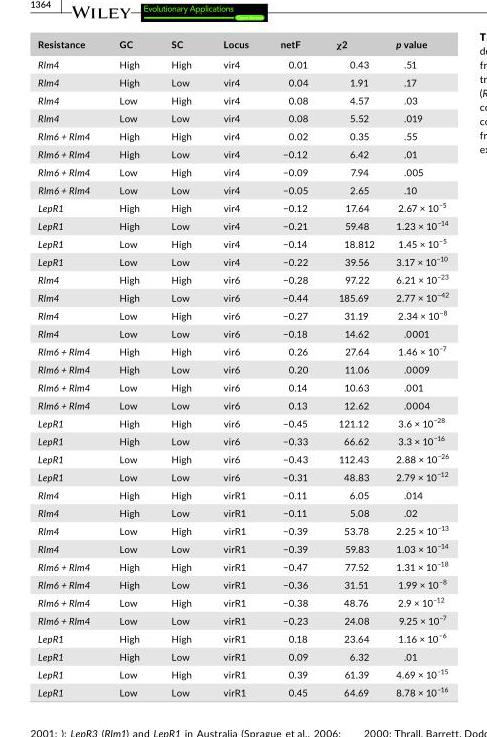table: (37, 37, 448, 697)
table column: (37, 37, 103, 697), (384, 37, 448, 697), (321, 37, 384, 697), (263, 37, 321, 697), (206, 37, 263, 697), (154, 37, 206, 697), (103, 37, 154, 697)
table column header: (37, 37, 448, 55)
table row: (37, 466, 448, 485), (37, 37, 448, 55), (37, 72, 448, 90), (37, 90, 448, 108), (37, 108, 448, 126), (37, 126, 448, 144), (37, 144, 448, 162), (37, 162, 448, 180), (37, 197, 448, 215), (37, 215, 448, 233), (37, 233, 448, 251), (37, 251, 448, 269), (37, 269, 448, 287), (37, 287, 448, 305), (37, 305, 448, 323), (37, 323, 448, 341), (37, 341, 448, 359), (37, 359, 448, 377), (37, 377, 448, 395), (37, 412, 448, 430), (37, 430, 448, 448), (37, 448, 448, 466), (37, 485, 448, 503), (37, 520, 448, 538), (37, 538, 448, 556), (37, 556, 448, 574), (37, 574, 448, 592), (37, 592, 448, 610), (37, 610, 448, 628), (37, 628, 448, 646), (37, 646, 448, 664), (37, 664, 448, 682), (37, 55, 448, 72), (37, 180, 448, 197), (37, 395, 448, 412), (37, 503, 448, 520), (37, 682, 448, 697)
